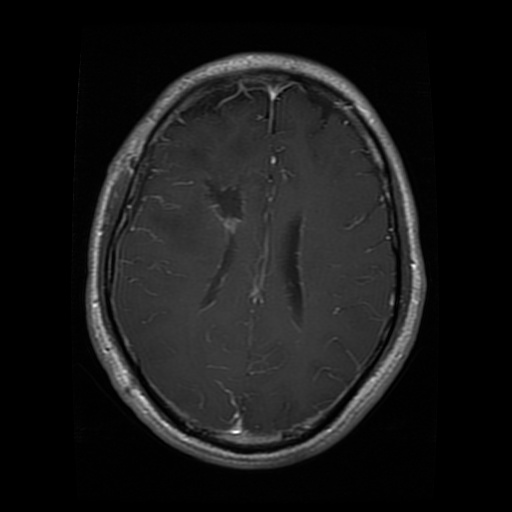glioma: (140, 107, 265, 246)
